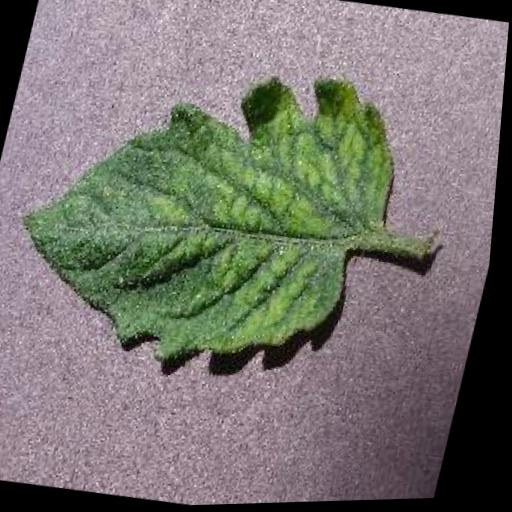Mosaic Virus: (0, 30, 423, 399)
